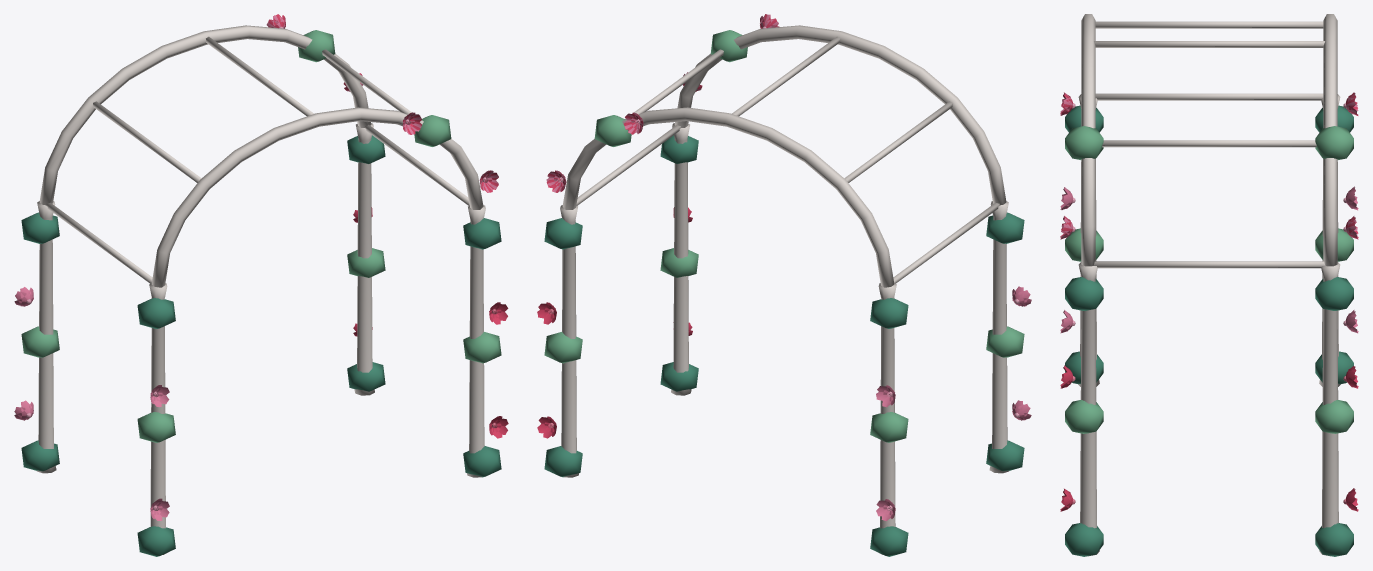
The model's file is rose_arbor.glb.
The picture shows the model from 3 angles, left to right: view 1: azimuth 30°, elevation 25°; view 2: azimuth 150°, elevation 25°; view 3: azimuth 270°, elevation 25°; orthographic projection. The views are drawn at different scales.
Visible parts, largest first — view 1: rose_arbor; view 2: rose_arbor; view 3: rose_arbor.
Boxes of the visible parts, x1,y1,x2,y2 form: rose_arbor: [14, 14, 508, 556]; rose_arbor: [537, 14, 1031, 556]; rose_arbor: [1060, 14, 1358, 556].
Size of what is drawn, in the model's own units: 3 by 3.2 by 2.
